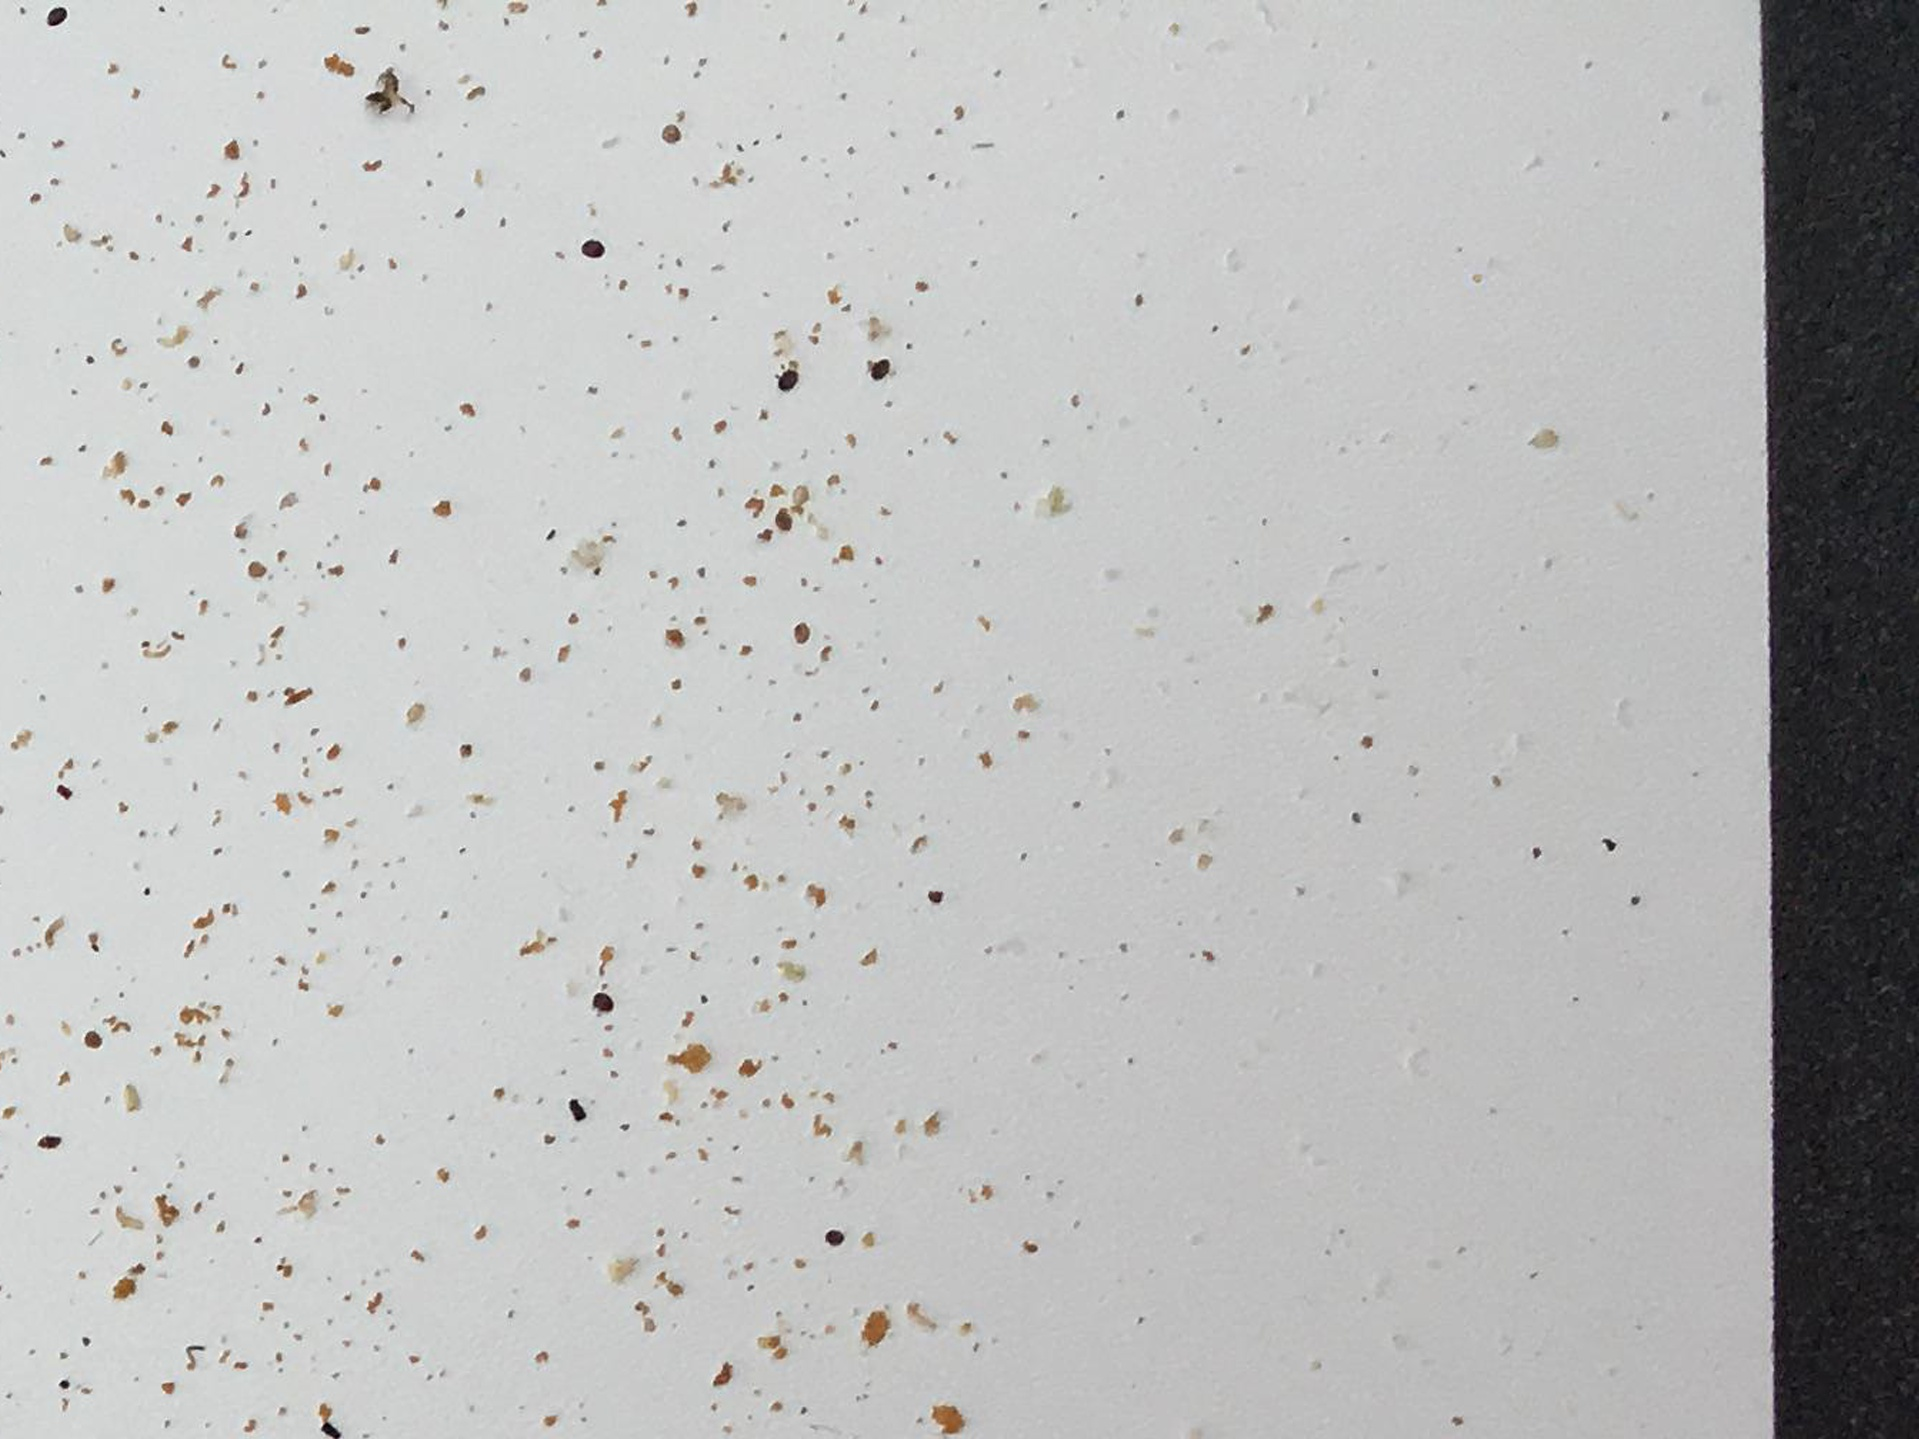Varroa: (577, 224, 616, 266), (579, 993, 618, 1032), (771, 364, 807, 405), (858, 355, 899, 391)
